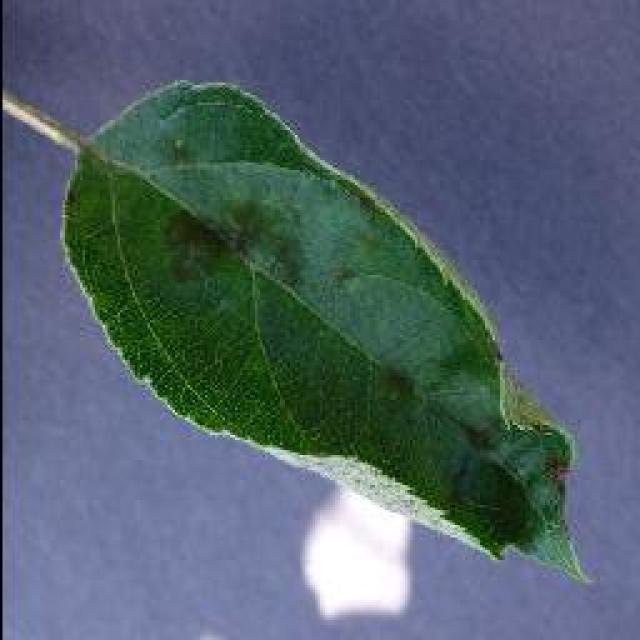apple scab disease: (55, 75, 593, 585)
